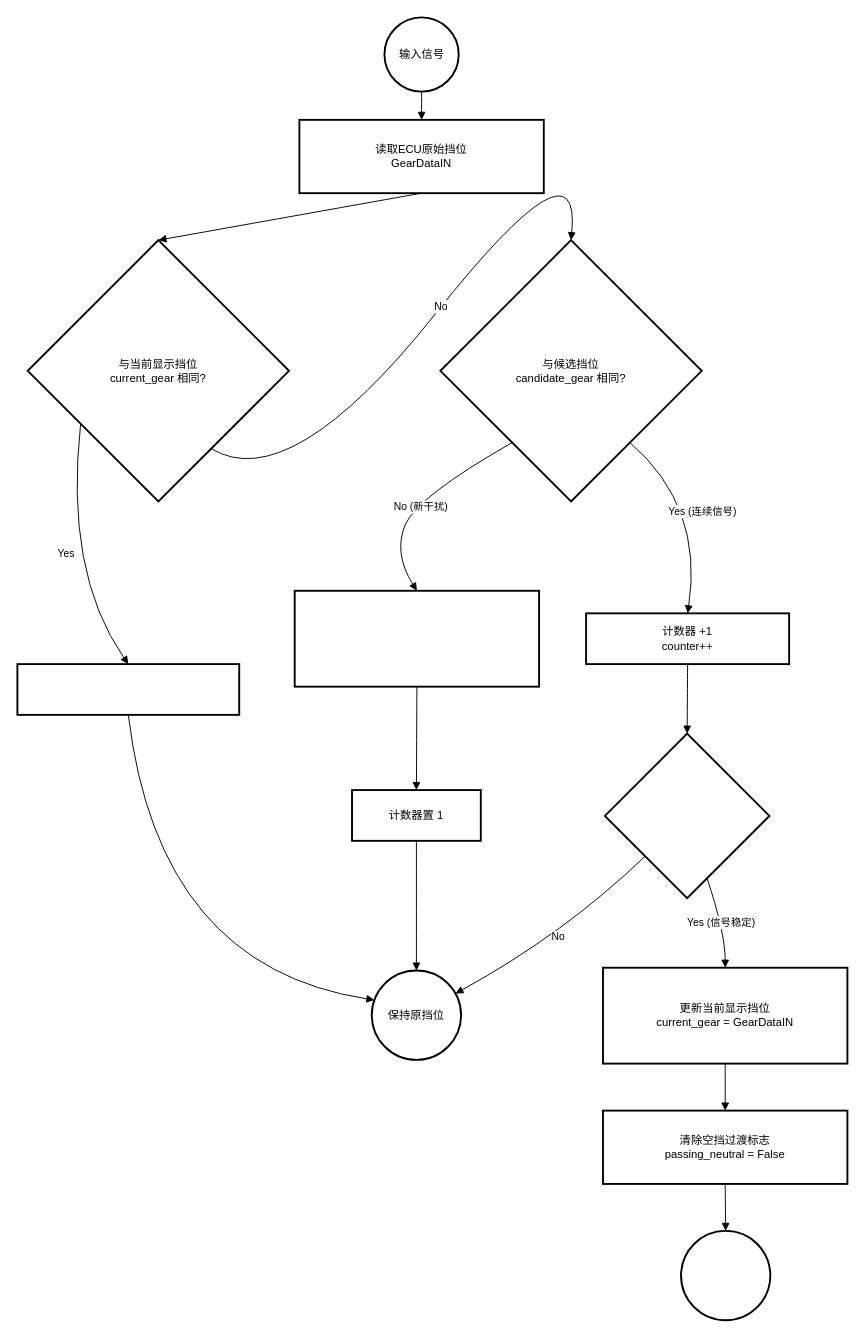
This 864x1337 diagram has some shape labels left out. The box of each missing label's shape, as (x1, y1, x2, y2) in pixels:
更新候选挡位 candidate_gear = GearDataIN: (293, 589, 540, 687)
计数器 >= 阈值9?: (603, 732, 770, 899)
计数器清零 counter = 0: (16, 663, 240, 715)
输出新挡位: (680, 1230, 771, 1321)
